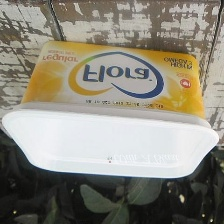plastic_box: (0, 35, 224, 186)
